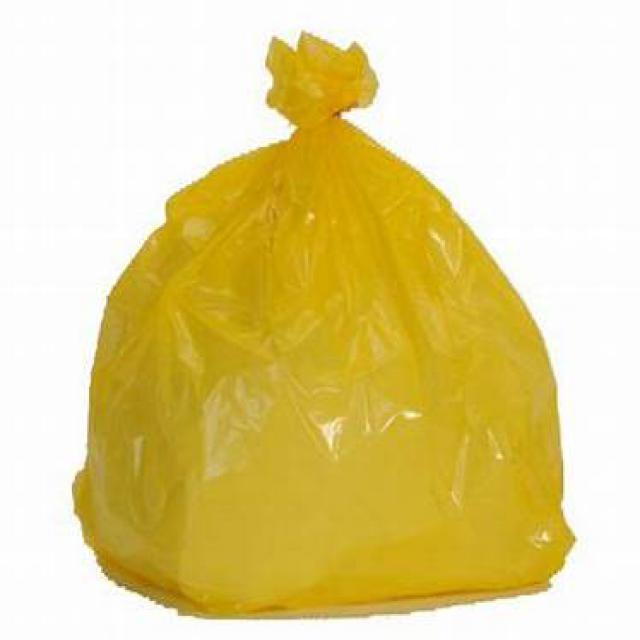waste: (86, 27, 569, 606)
